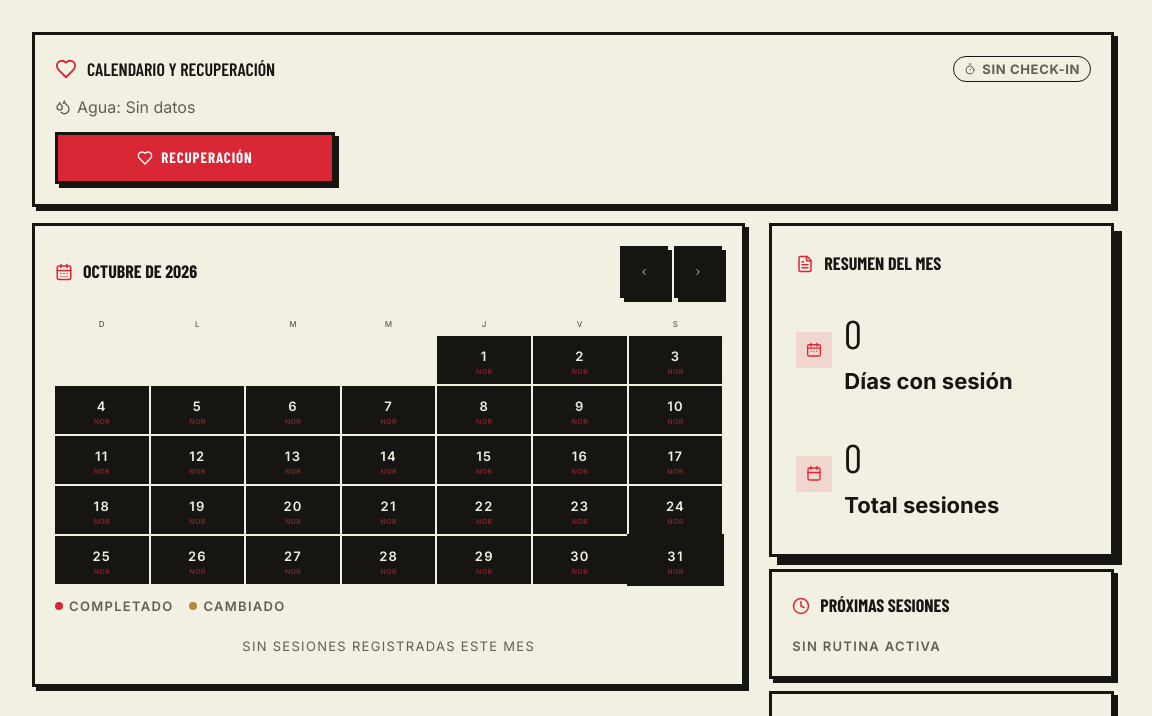
Test: Calendario (historial) — gasto calórico con el motor central › muestra el gasto de la sesión y el total del día (igual que Inicio)
The image size is (1152, 716).
expect the heading "Calendario y recuperación" is shown: met, box x1=87 y1=55 x2=275 y2=83
Click the button "31 Nor": click(676, 560) x1=629 y1=536 x2=722 y2=584
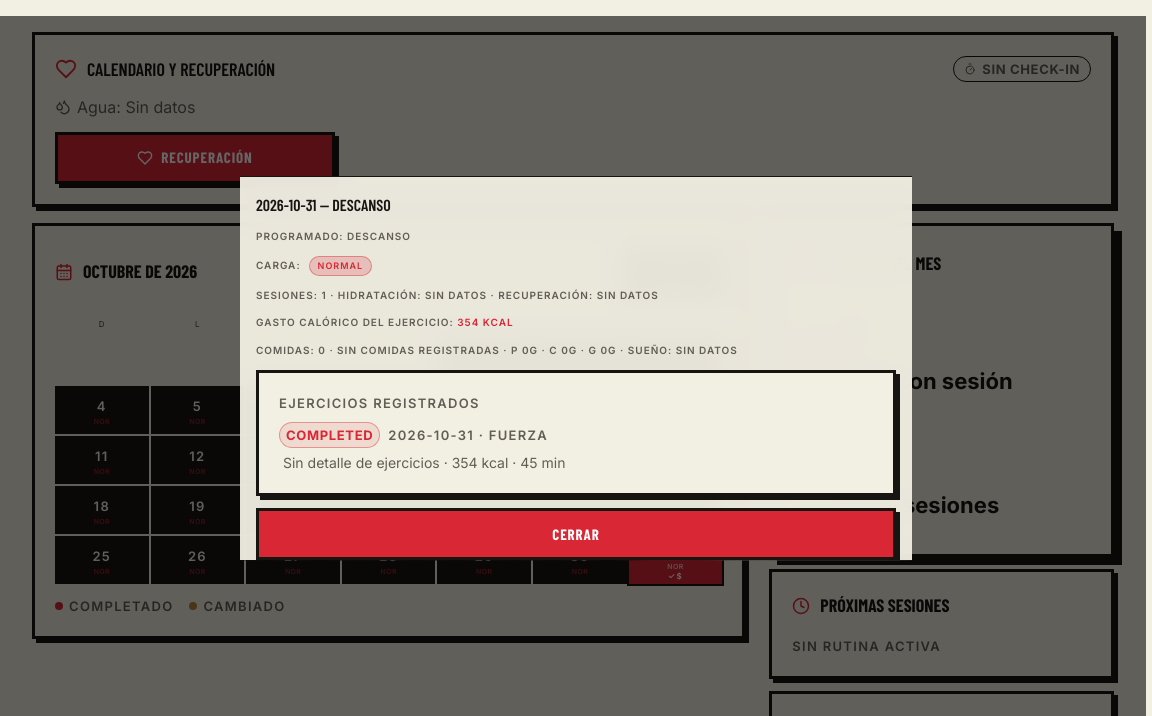
expect the text "Gasto calórico del ejercicio: 354 kcal" is shown: met, box x1=256 y1=316 x2=514 y2=328
expect the text with test id "dia-gasto-total" shows "354": met, box x1=457 y1=316 x2=479 y2=328
expect the text with test id "sesion-gasto" shows "354": met, box x1=452 y1=454 x2=478 y2=471
